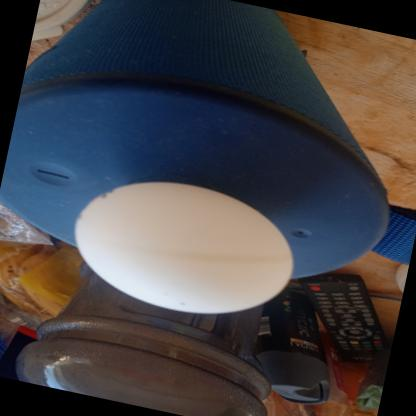Tabel Tennis: (54, 158, 314, 338)
